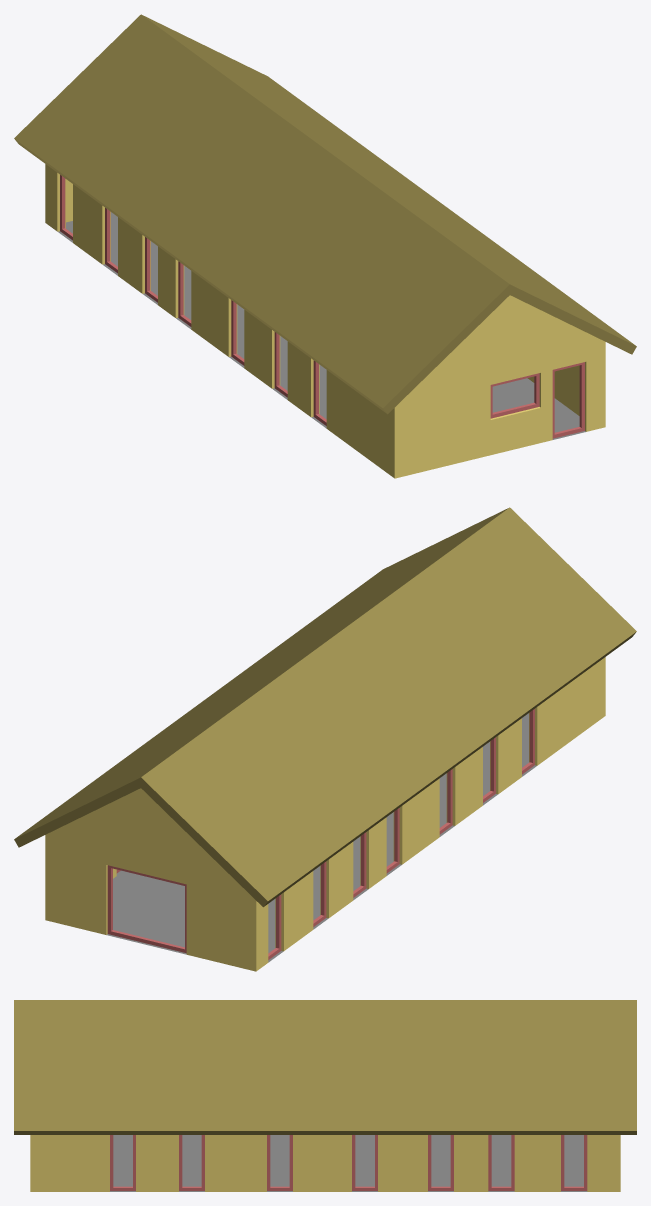
File: result.glb
The picture shows the model from 3 angles, top to bottom: view 1: azimuth 30°, elevation 25°; view 2: azimuth 150°, elevation 25°; view 3: azimuth 270°, elevation 25°; orthographic projection. The views are drawn at different scales.
Visible parts, largest first — view 1: c14cabf4-6adc-4b81-a8e9-615e69337daa__undefined (×2), 7635964f-2a41-4a6b-829e-dbc82a5d8127__undefined, cb648e49-e335-468f-a58f-1e810b857eb3__Plane_18, c8ac4825-610f-4dcc-b589-839a854c3282__Box, ae99829b-9fbc-4d2a-9543-4d3736ef9aae__Box_3; view 2: c14cabf4-6adc-4b81-a8e9-615e69337daa__undefined (×2), 7635964f-2a41-4a6b-829e-dbc82a5d8127__undefined, cb648e49-e335-468f-a58f-1e810b857eb3__Plane_18, 0d0884b3-e7ed-4cb9-8210-f7c0df2e4edc__Box_9; view 3: c14cabf4-6adc-4b81-a8e9-615e69337daa__undefined, 7635964f-2a41-4a6b-829e-dbc82a5d8127__undefined, cb648e49-e335-468f-a58f-1e810b857eb3__Plane_18, 68dd41f0-df8f-4da0-b0b0-e497128b13cc__Box_48, 29a65d02-c06d-4c65-ae11-3a24616e5eaa__Box_51, 41cfda8a-3ccb-48a8-b3ca-dcc6094ee568__Box_36, c1fe4b36-2dd9-4d44-96b8-fd036fb94f4a__Box_39, df8b42f2-841d-4637-b024-f4b561bd80b6__Box_45, 52cb80de-6697-4951-9c1c-719bad9fbeff__Box_33, 32754cc8-a7b7-4809-b0da-26dff3ee59c6__Box_42.
Part boxes in pixels (x1,y1,x2,y2): c14cabf4-6adc-4b81-a8e9-615e69337daa__undefined (×2): (14,14,636,414); 7635964f-2a41-4a6b-829e-dbc82a5d8127__undefined: (45,164,605,478); cb648e49-e335-468f-a58f-1e810b857eb3__Plane_18: (58,212,585,439); c8ac4825-610f-4dcc-b589-839a854c3282__Box: (552,362,584,438); ae99829b-9fbc-4d2a-9543-4d3736ef9aae__Box_3: (490,373,539,418); c14cabf4-6adc-4b81-a8e9-615e69337daa__undefined (×2): (14,507,636,907); 7635964f-2a41-4a6b-829e-dbc82a5d8127__undefined: (45,657,605,971); cb648e49-e335-468f-a58f-1e810b857eb3__Plane_18: (106,713,536,962); 0d0884b3-e7ed-4cb9-8210-f7c0df2e4edc__Box_9: (107,865,186,953); c14cabf4-6adc-4b81-a8e9-615e69337daa__undefined: (14,1000,636,1134); 7635964f-2a41-4a6b-829e-dbc82a5d8127__undefined: (30,1135,620,1191); cb648e49-e335-468f-a58f-1e810b857eb3__Plane_18: (110,1135,587,1191); 68dd41f0-df8f-4da0-b0b0-e497128b13cc__Box_48: (488,1135,514,1190); 29a65d02-c06d-4c65-ae11-3a24616e5eaa__Box_51: (561,1135,587,1190); 41cfda8a-3ccb-48a8-b3ca-dcc6094ee568__Box_36: (179,1135,204,1190); c1fe4b36-2dd9-4d44-96b8-fd036fb94f4a__Box_39: (267,1135,292,1190); df8b42f2-841d-4637-b024-f4b561bd80b6__Box_45: (428,1135,453,1190); 52cb80de-6697-4951-9c1c-719bad9fbeff__Box_33: (110,1135,135,1190); 32754cc8-a7b7-4809-b0da-26dff3ee59c6__Box_42: (352,1135,377,1190).
Bounding box in the file's own units: 757 × 500 × 1903.
